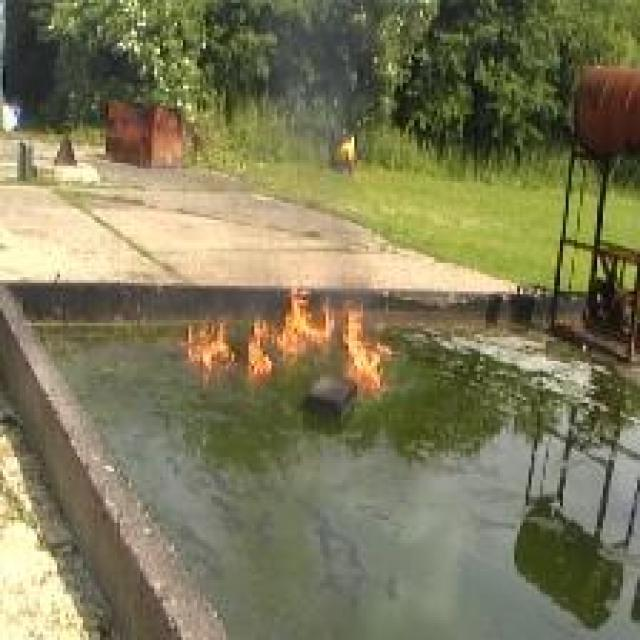Fire: (248, 286, 338, 380), (344, 307, 390, 390), (183, 314, 243, 374)
